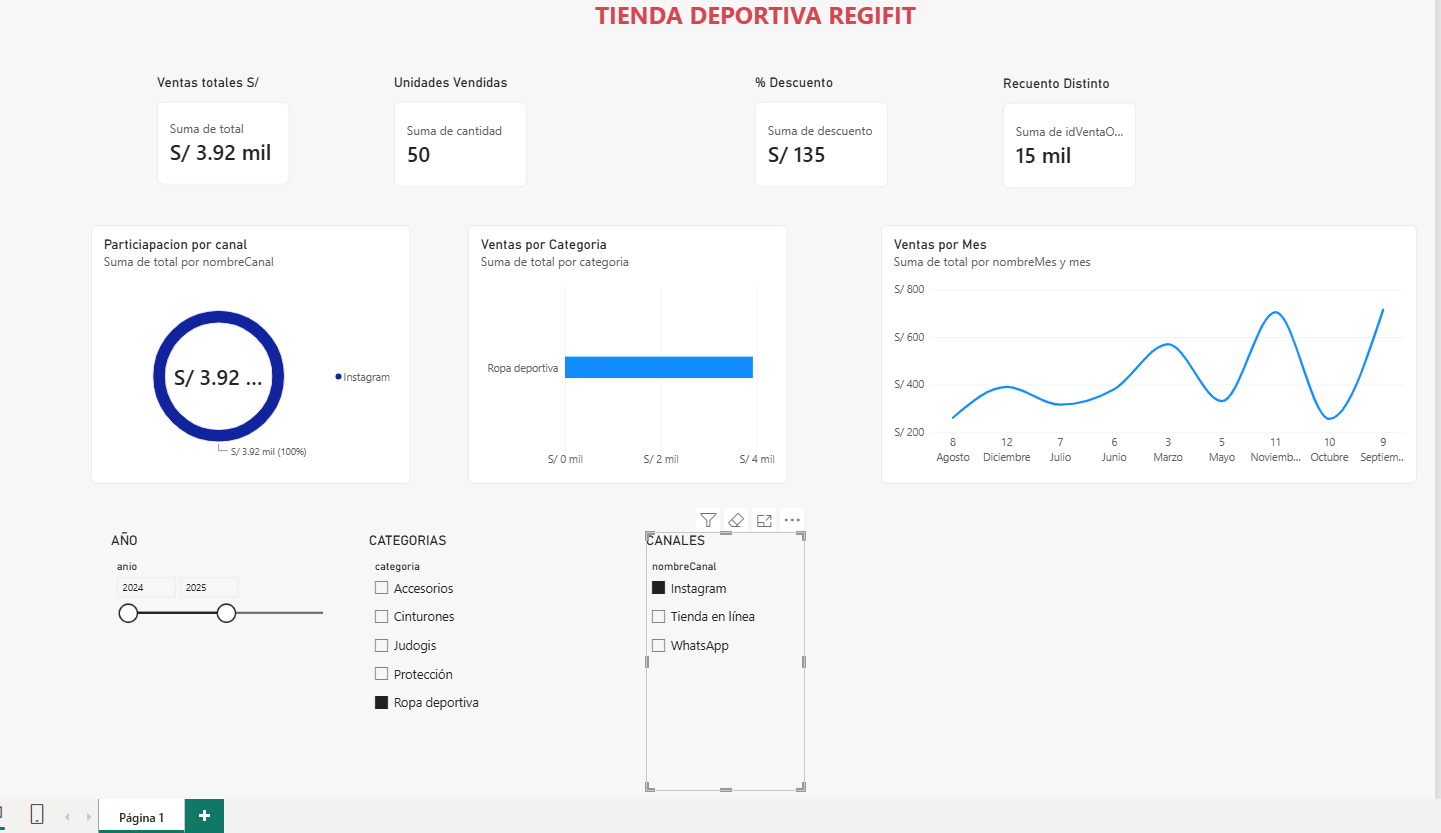

What the dashboard file says about the page in this screenshot:
{"tool":"powerbi","page":{"name":"Página 1","canvas":[1920,1080],"ordinal":0},"visuals":[{"type":"cardVisual","title":"Ventas totales S/","fields":{"Data":["Sum(fac_ventas (2).total)"]},"box":[256.7,115.7,246.1,147.6],"z":0},{"type":"cardVisual","title":"Unidades Vendidas","fields":{"Data":["Sum(fac_ventas (2).cantidad)"]},"box":[557.3,115.7,184.9,150.3],"z":1000},{"type":"cardVisual","title":"% Descuento","fields":{"Data":["Sum(fac_ventas (2).descuento)"]},"box":[1016.2,115.7,227.4,150.3],"z":2000},{"type":"cardVisual","title":"clientes recuerentes ","fields":{"Data":["CountNonNull(dim_cliente (2).id_cliente)"]},"box":[1346,117,216.8,150.3],"z":2001},{"type":"donutChart","title":"Particiapacion por canal ","fields":{"Category":["dim_canal (2).nombreCanal"],"Y":["Sum(fac_ventas (2).total)"]},"box":[22.6,316.6,569.3,344.5],"z":2002},{"type":"clusteredBarChart","title":"Ventas por Categoria","fields":{"Category":["dim_producto (2).categoria"],"Y":["Sum(fac_ventas (2).total)"]},"box":[634.4,316.6,496.1,344.5],"z":2003},{"type":"lineChart","title":"Ventas por Mes","fields":{"Category":["dim_tiempo (2).nombreMes","dim_tiempo (2).mes"],"Y":["Sum(fac_ventas (2).total)"]},"box":[1183.2,316.6,713.4,344.3],"z":2004},{"type":"slicer","title":"AÑO","fields":{"Values":["dim_tiempo (2).anio"]},"box":[159,725.1,300.5,344.3],"z":2005},{"type":"slicer","title":"CATEGORIAS","fields":{"Values":["dim_producto (2).categoria"]},"box":[503.3,725.1,301,344],"z":2006},{"type":"slicer","title":"CANALES","fields":{"Values":["dim_canal (2).nombreCanal"]},"box":[871,725.1,211,344],"z":2007},{"type":"textbox","box":[634.4,17.3,496,56.9],"z":2008}]}

Visuals, with their boxes on the page's 1920x1080 design canvas (x1, y1, x2, y2). These are canvas units, not pixel positions in the 1441x833 screenshot, which may show the page scaled, cropped or inside an application window:
"Ventas totales S/" cardVisual: region(257, 116, 503, 263)
"Unidades Vendidas" cardVisual: region(557, 116, 742, 266)
"% Descuento" cardVisual: region(1016, 116, 1244, 266)
"clientes recuerentes " cardVisual: region(1346, 117, 1563, 267)
"Particiapacion por canal " donutChart: region(23, 317, 592, 661)
"Ventas por Categoria" clusteredBarChart: region(634, 317, 1130, 661)
"Ventas por Mes" lineChart: region(1183, 317, 1897, 661)
"AÑO" slicer: region(159, 725, 460, 1069)
"CATEGORIAS" slicer: region(503, 725, 804, 1069)
"CANALES" slicer: region(871, 725, 1082, 1069)
textbox: region(634, 17, 1130, 74)
